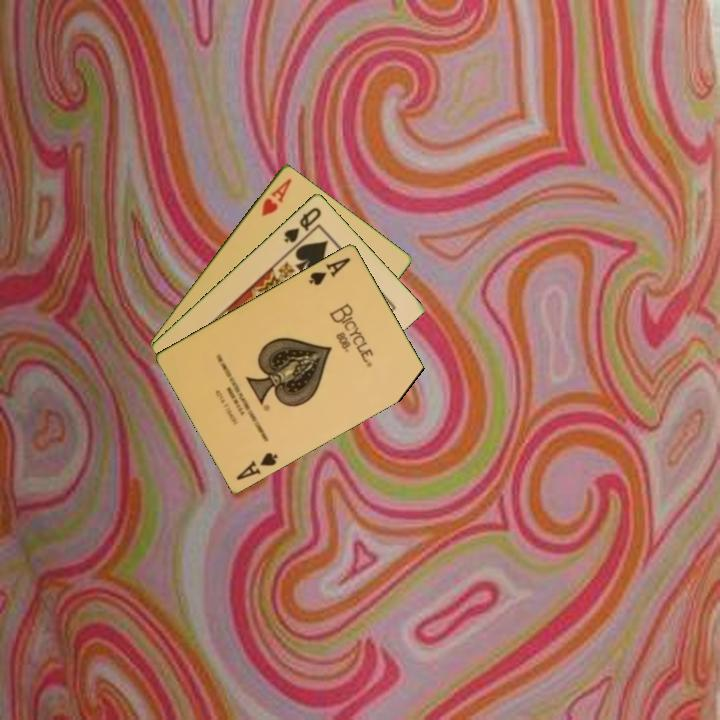Ah: (258, 174, 295, 219)
As: (305, 253, 353, 288), (233, 448, 281, 483)
Qs: (280, 203, 324, 245)
